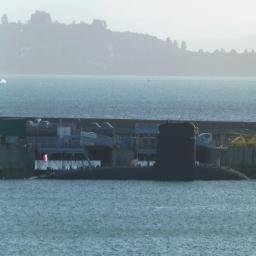submarine: (28, 126, 253, 183)
